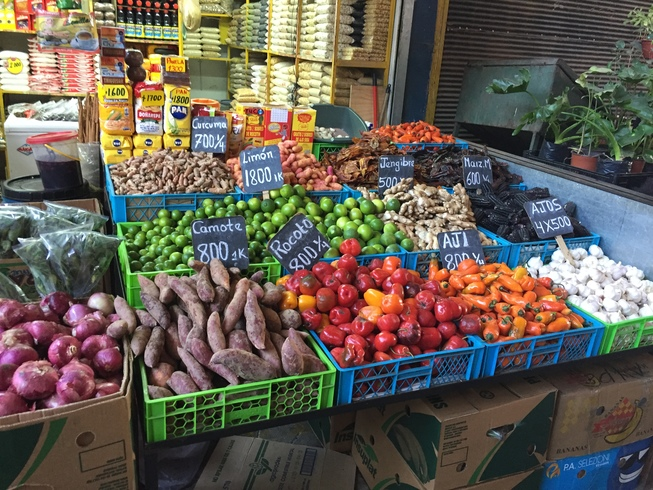precio: (267, 214, 336, 282), (192, 214, 253, 278), (435, 227, 491, 280), (521, 193, 575, 247), (239, 148, 285, 193), (189, 117, 231, 156), (377, 152, 417, 191), (459, 150, 496, 191)
